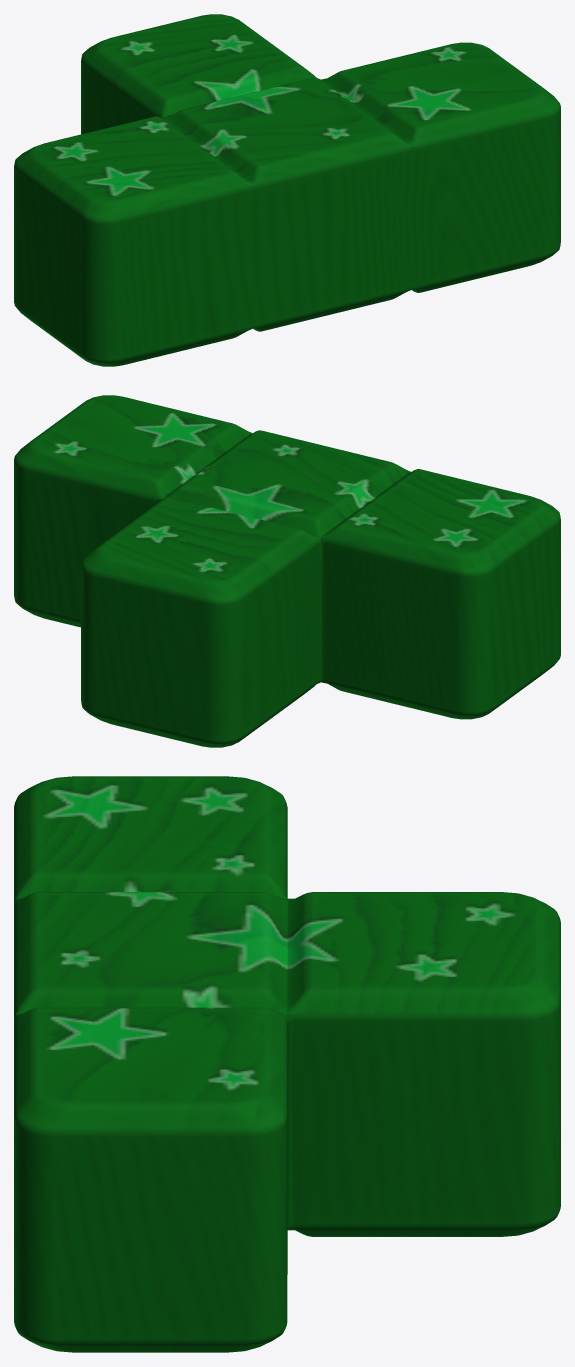
Rendered from Star_Block_05.fbx.
3 views of the same model, one above another, from view 1: azimuth 30°, elevation 25°; view 2: azimuth 150°, elevation 25°; view 3: azimuth 270°, elevation 25° (orthographic). The views are drawn at different scales.
Visible parts, largest first — view 1: Star_Block_05; view 2: Star_Block_05; view 3: Star_Block_05.
Boxes of the visible parts, x1,y1,x2,y2 form: Star_Block_05: (14,14,560,366); Star_Block_05: (14,395,560,747); Star_Block_05: (14,776,560,1352).
Bounding box in the file's own units: 3 × 1 × 2.
Materials: 1 (1 with a texture image).
